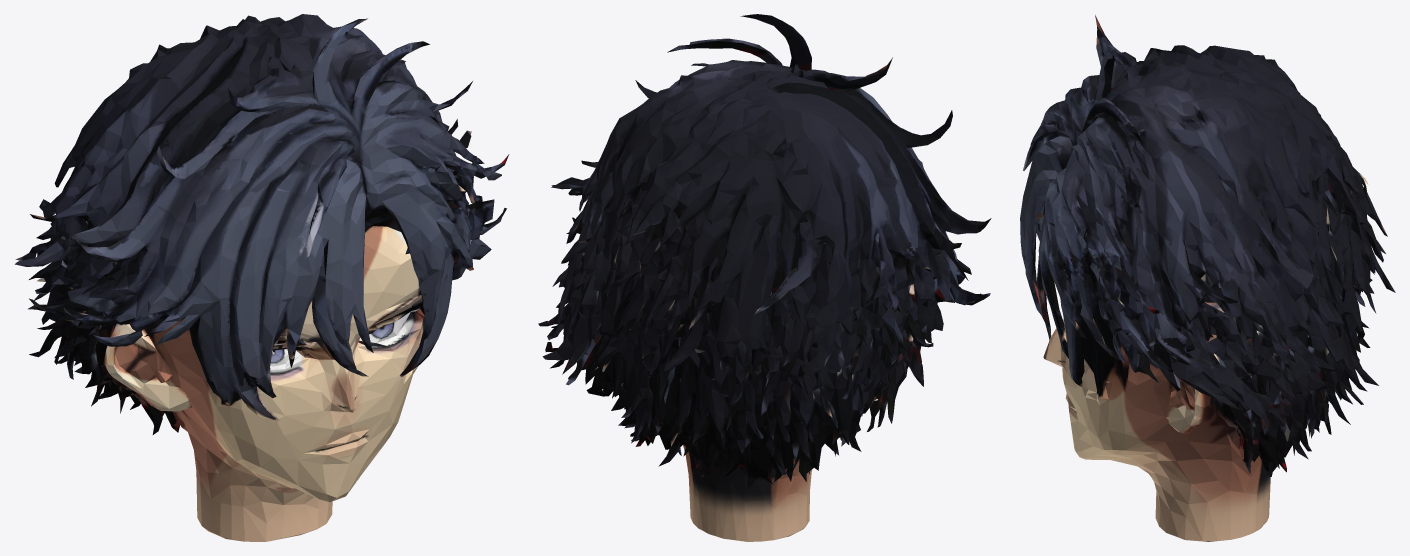
File: side_h_archer_repaired_atlas.glb
3 renders of one model, left to right at view 1: azimuth 30°, elevation 25°; view 2: azimuth 150°, elevation 25°; view 3: azimuth 270°, elevation 25°, orthographic. The views are drawn at different scales.
Visible parts, largest first — view 1: temp_mesh.ply; view 2: temp_mesh.ply; view 3: temp_mesh.ply.
Part boxes in pixels (bbox=[...]): temp_mesh.ply: bbox=[15, 14, 509, 541]; temp_mesh.ply: bbox=[538, 14, 991, 541]; temp_mesh.ply: bbox=[1020, 15, 1395, 541].
Size of the model in its own units: 1.79 by 1.97 by 1.4.
1 material, 1 textured.
